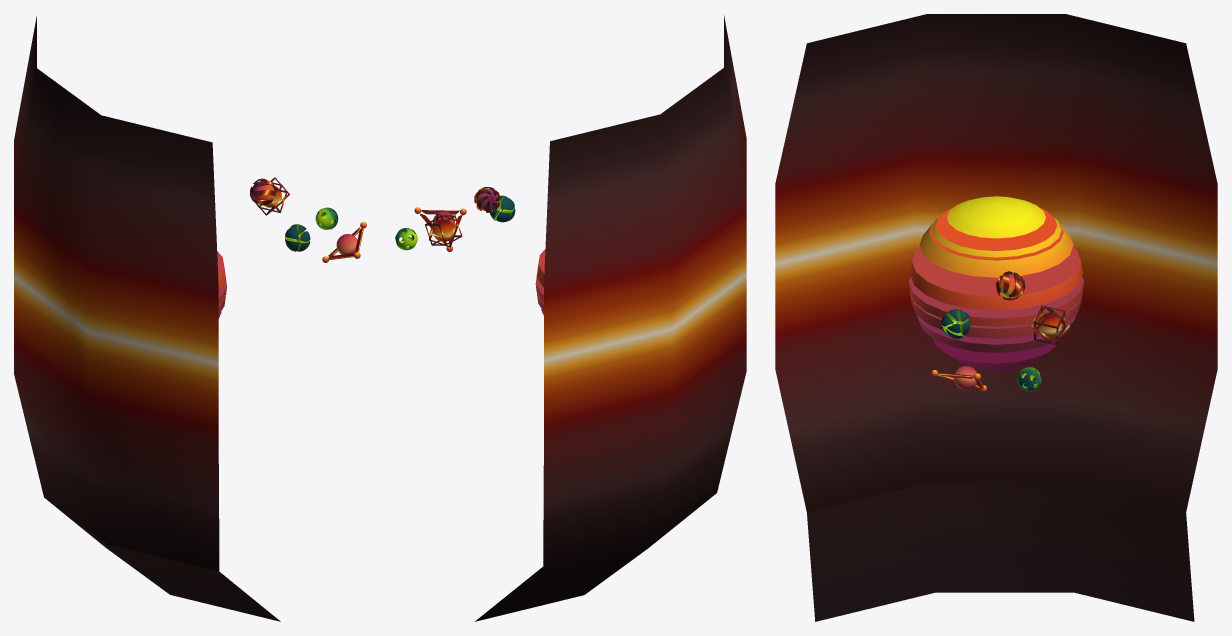
Rendered from lev_6.fbx.
3 renders of one model, left to right at view 1: azimuth 30°, elevation 25°; view 2: azimuth 150°, elevation 25°; view 3: azimuth 270°, elevation 25°, orthographic. The views are drawn at different scales.
Parts seen in each view (by area): view 1: lev_gra_7; view 2: lev_gra_7; view 3: lev_gra_7.
Boxes of the visible parts, x1,y1,x2,y2 form: lev_gra_7: [14, 16, 366, 621]; lev_gra_7: [395, 15, 746, 621]; lev_gra_7: [775, 14, 1217, 621].
Bounding box in the file's own units: 3094 × 4831 × 3585.
